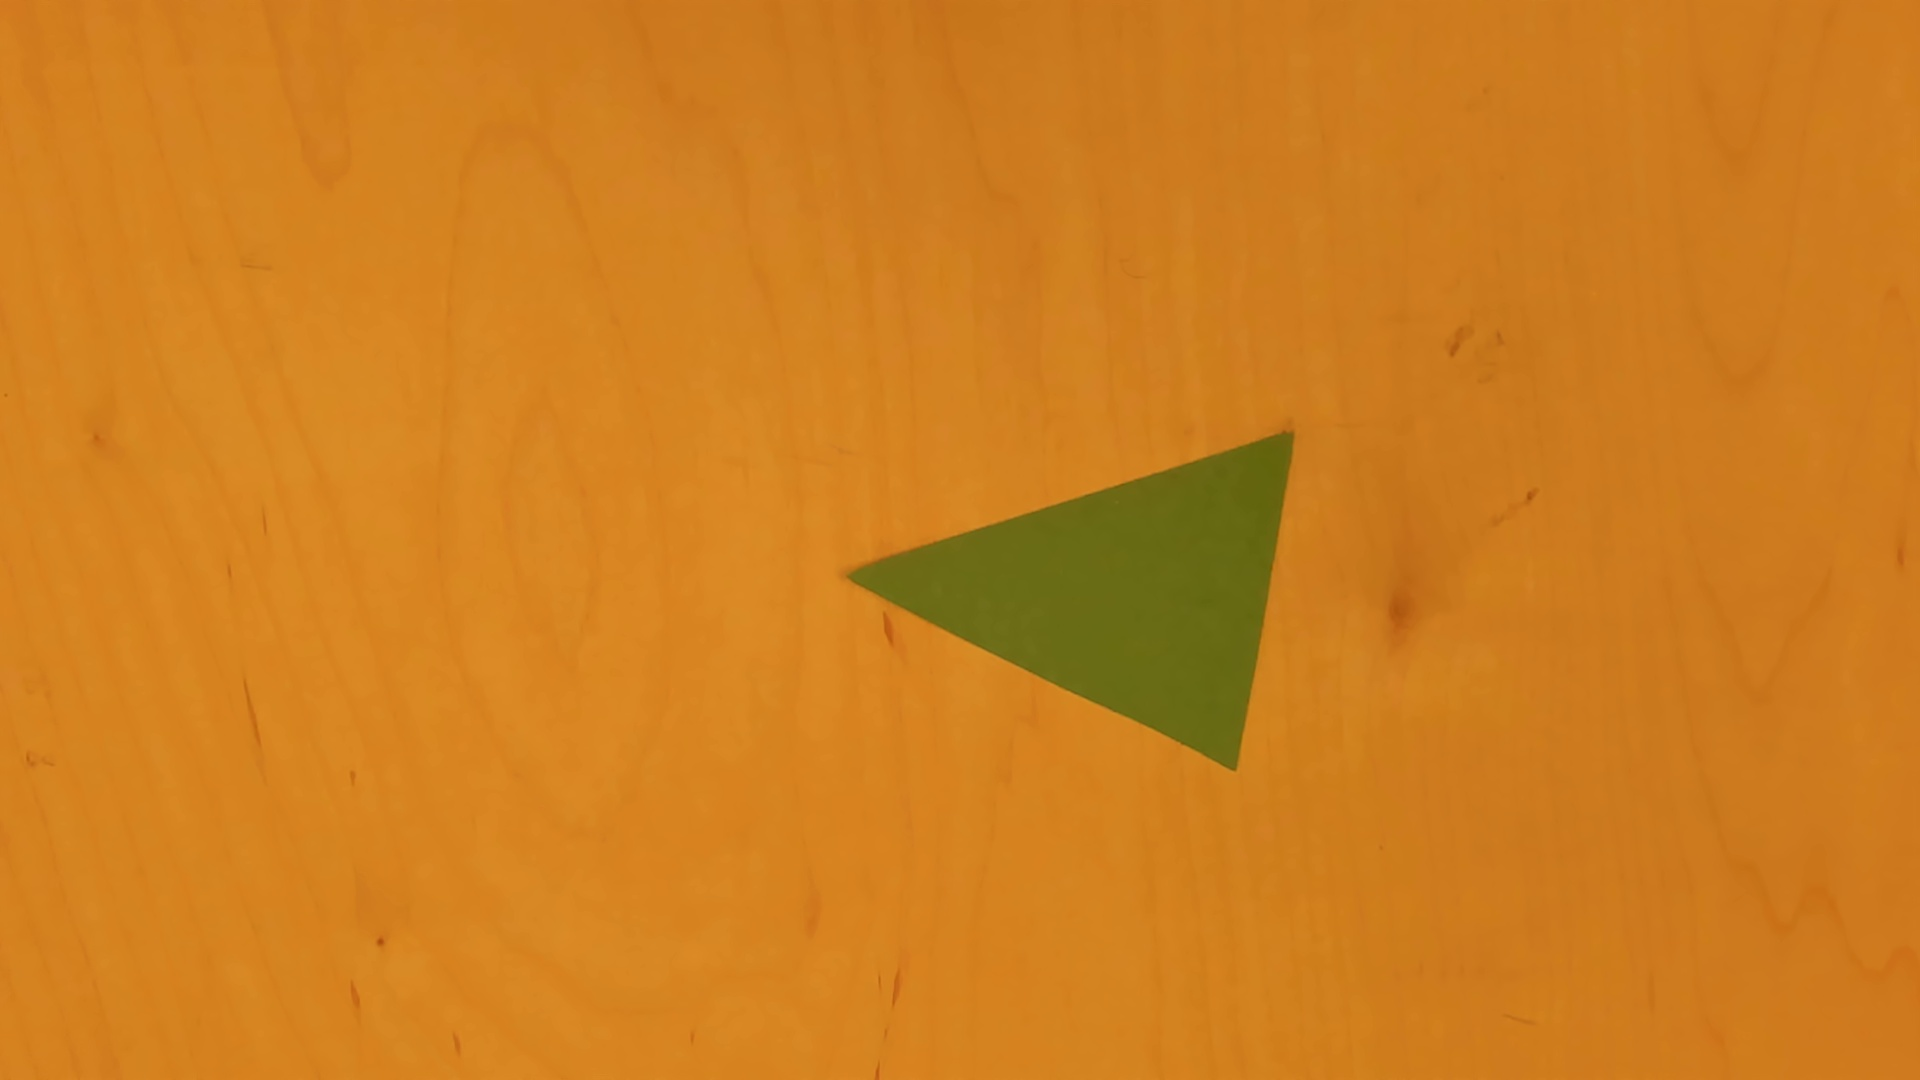GT: (840, 423, 1298, 779)
